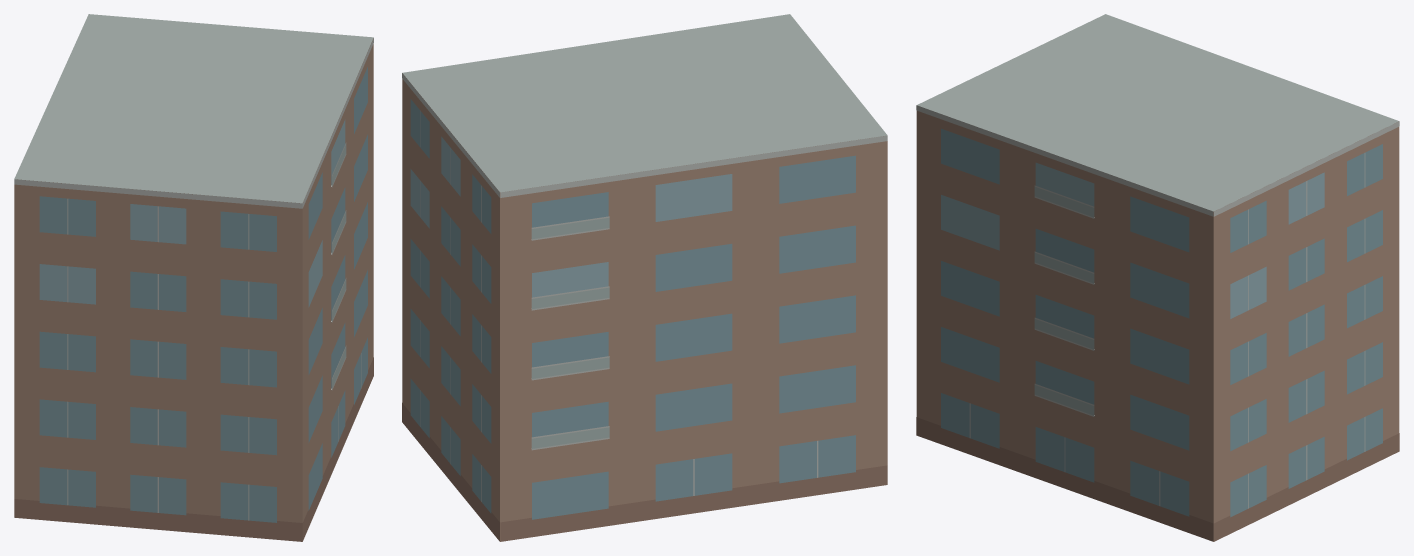
Rendered from survey-upis-32620712.glb.
3 renders of one model, left to right at view 1: azimuth 30°, elevation 25°; view 2: azimuth 150°, elevation 25°; view 3: azimuth 270°, elevation 25°, orthographic. The views are drawn at different scales.
Parts seen in each view (by area): view 1: survey-upis-32620712.tmp; view 2: survey-upis-32620712.tmp; view 3: survey-upis-32620712.tmp.
Part boxes in pixels (x1=…): survey-upis-32620712.tmp: x1=14, y1=14, x2=373, y2=541; survey-upis-32620712.tmp: x1=402, y1=14, x2=887, y2=541; survey-upis-32620712.tmp: x1=916, y1=14, x2=1399, y2=541.
Size of the model in its own units: 19.51 by 15.2 by 20.15.
